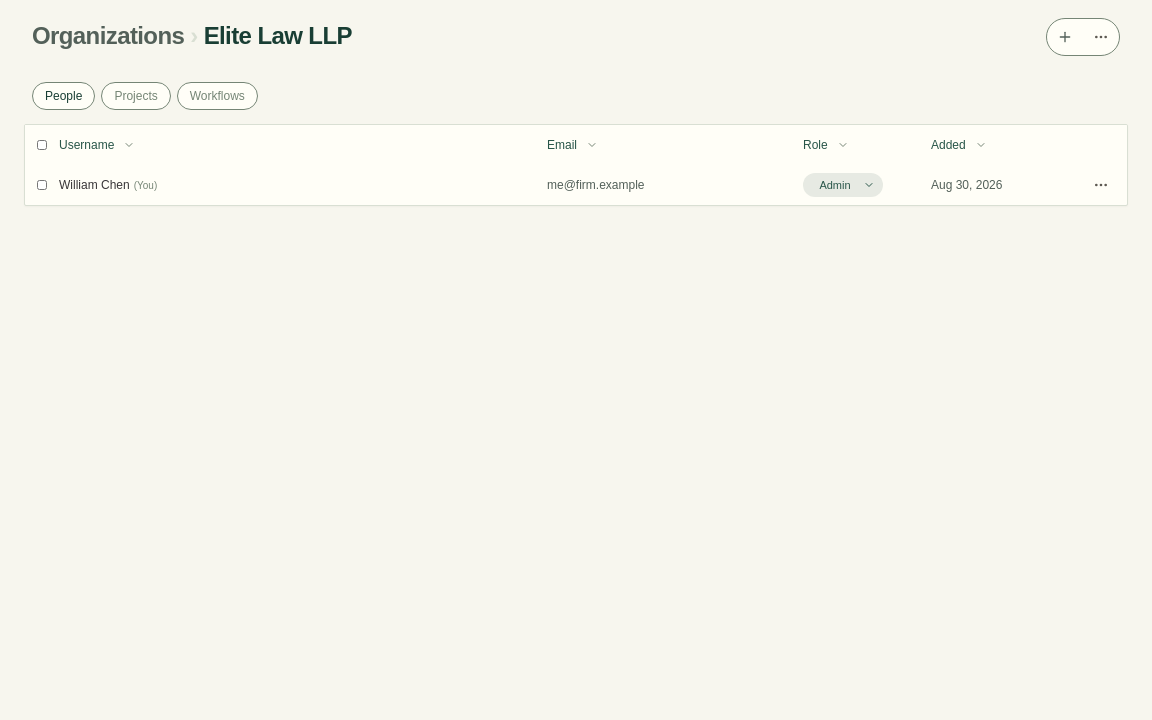
OrganizationWorkspace › re-reads invitations and the roster when the Add member modal opens
The width and height of the screenshot is (1152, 720).
Expected: the text "William Chen" is shown, [59,177,130,193]
Expected: the text "New Joiner" is not shown
Click the button named "Add member". click: (1065, 37)
box: [1051,23,1079,51]
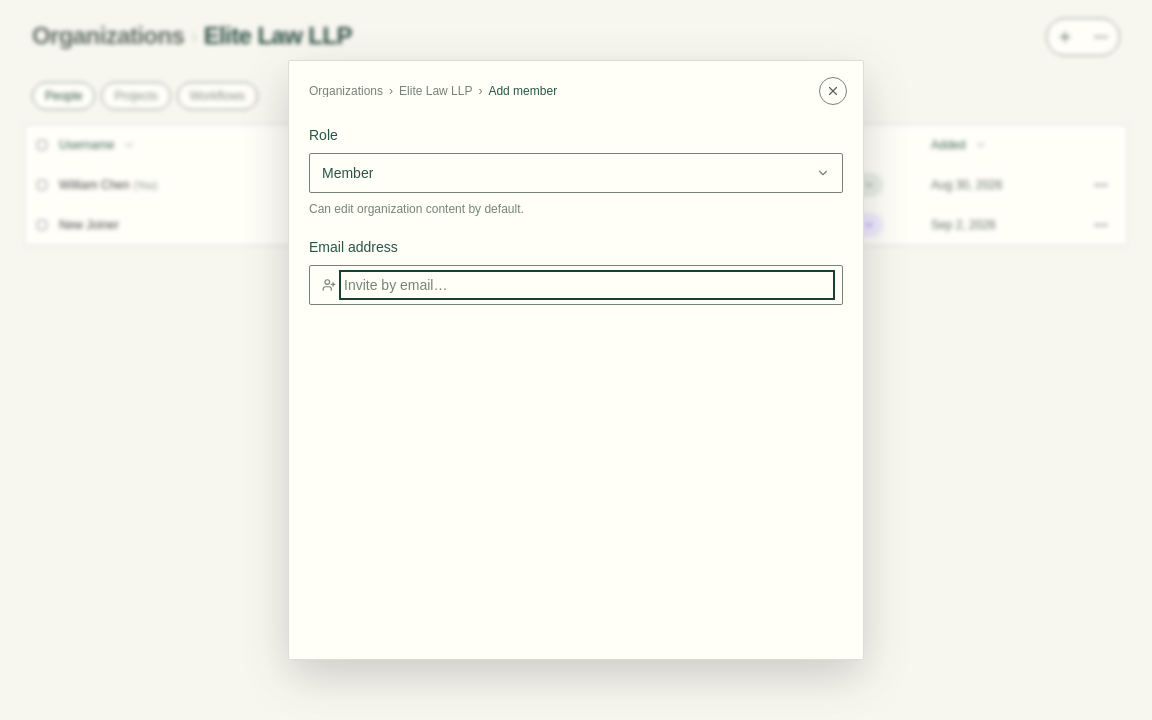
Expected: the text "New Joiner" is shown, [59,217,119,233]
